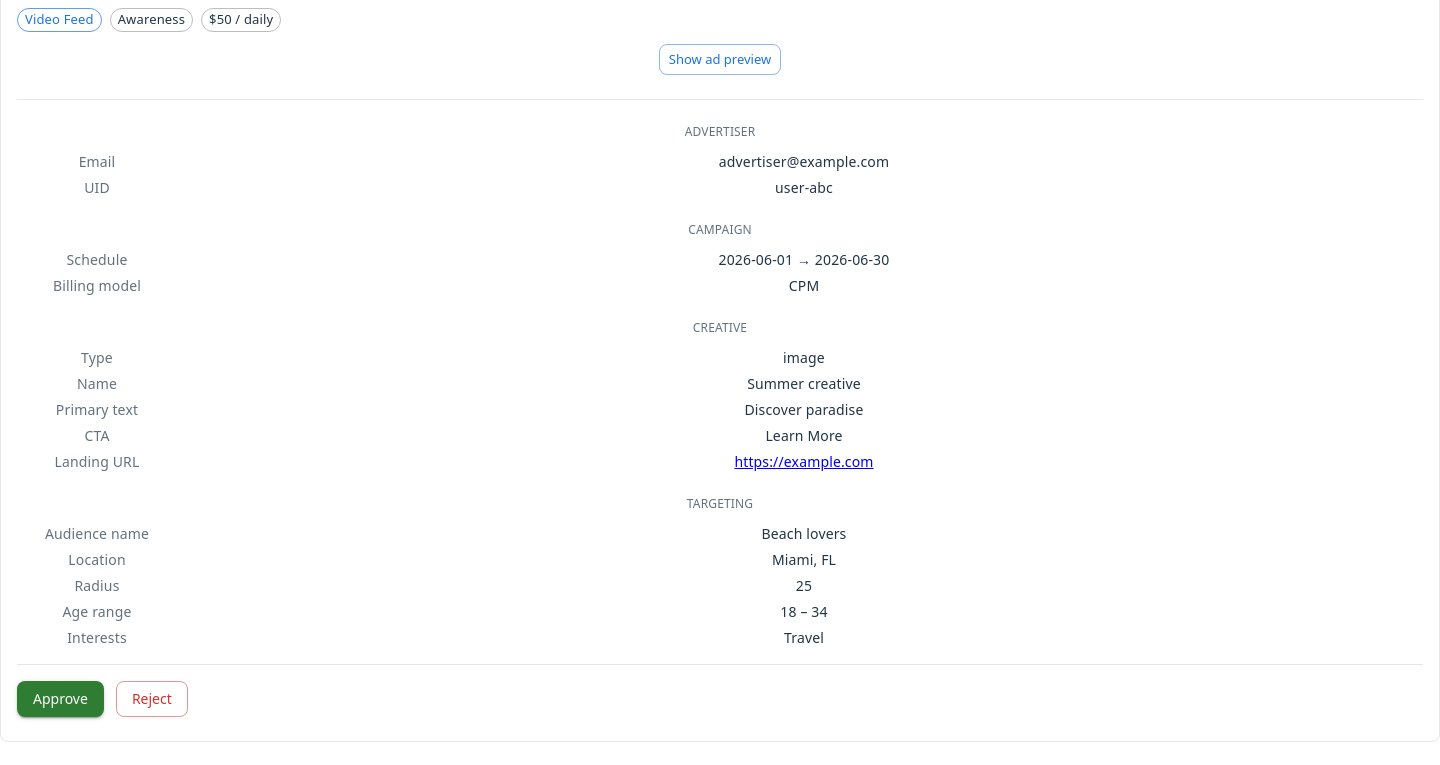
Test: CampaignReviewCard › cancelling rejection form returns to Approve/Reject buttons
Click the button "Reject": (152, 699) [116,681,188,717]
(page scrolled)
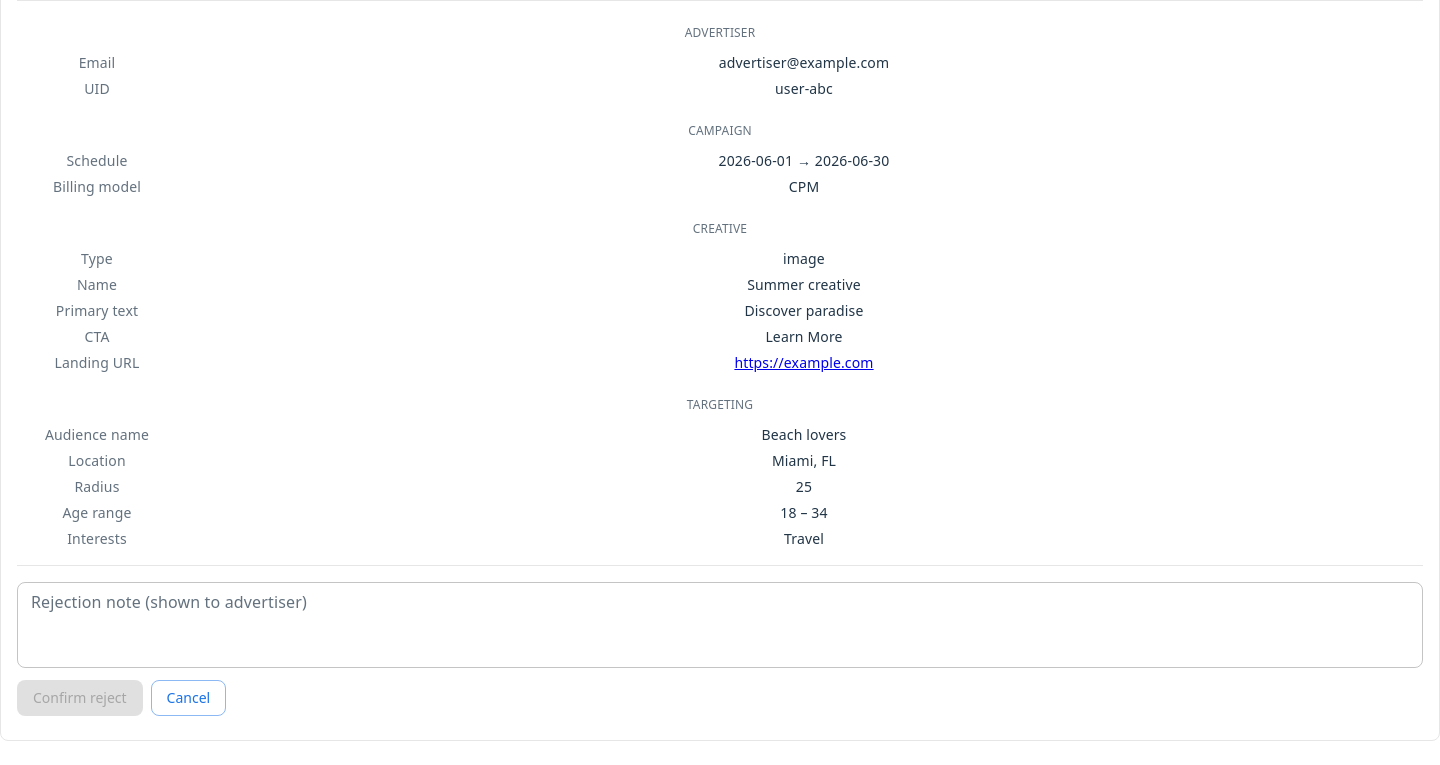
Click the button "Cancel": (188, 698) [151,680,226,716]
(page scrolled)
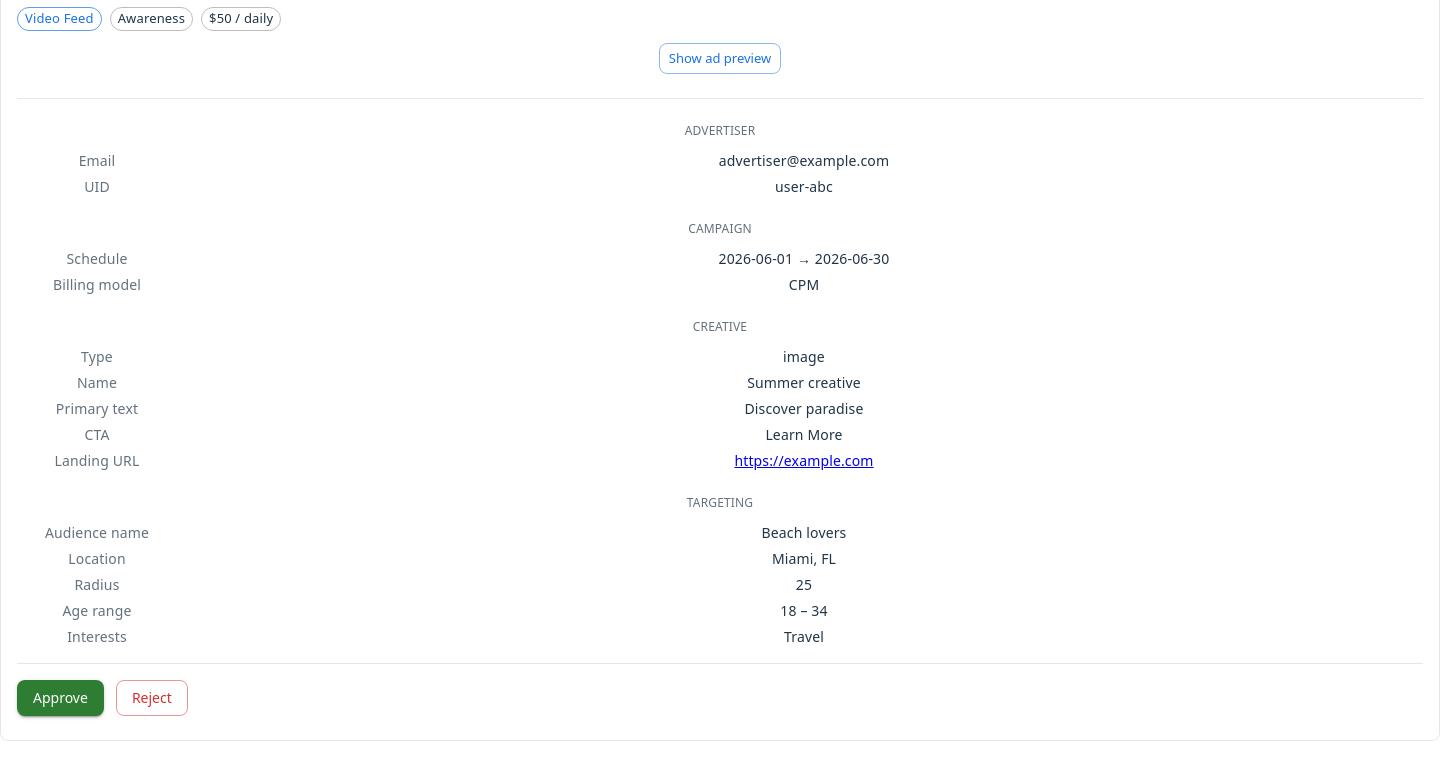
Check: the button "Approve" is shown, box [17,680,104,716]
Check: the label labelled "Rejection note" is gone
